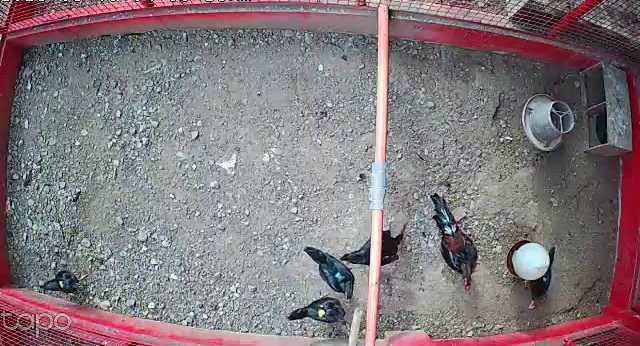Chicken: (301, 241, 358, 304), (341, 228, 406, 269), (519, 245, 558, 312), (286, 292, 350, 332), (40, 269, 92, 299)
Rooster: (429, 190, 480, 292)
Saddle_Color_Yellow: (317, 306, 327, 319)
